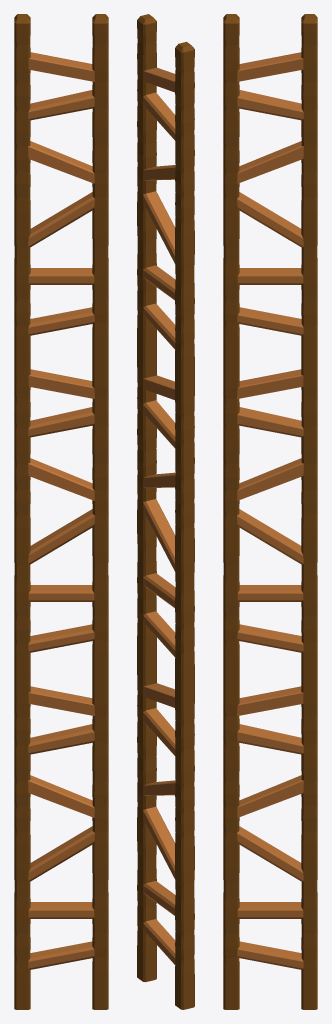
Rendered from Ladder.fbx.
3 renders of one model, left to right at view 1: azimuth 90°, elevation 25°; view 2: azimuth 210°, elevation 25°; view 3: azimuth 270°, elevation 25°, orthographic. The views are drawn at different scales.
Parts seen in each view (by area): view 1: Cube.009; view 2: Cube.009; view 3: Cube.009.
Part boxes in pixels (x1=…): Cube.009: x1=14, y1=14, x2=108, y2=1009; Cube.009: x1=137, y1=14, x2=194, y2=1009; Cube.009: x1=223, y1=14, x2=317, y2=1009.
Size of the model in its own units: 4.75 by 316 by 27.31.
